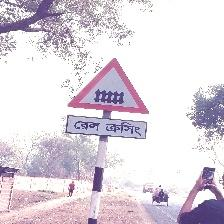Rail-crossing: (66, 58, 150, 138)
